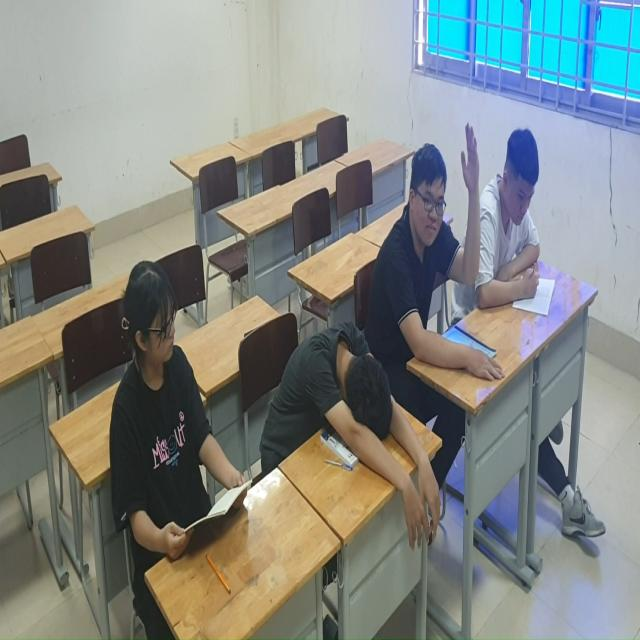raise_hand: (394, 118, 483, 366)
read: (103, 254, 256, 592), (482, 127, 562, 334)
sleep: (269, 313, 448, 570)
